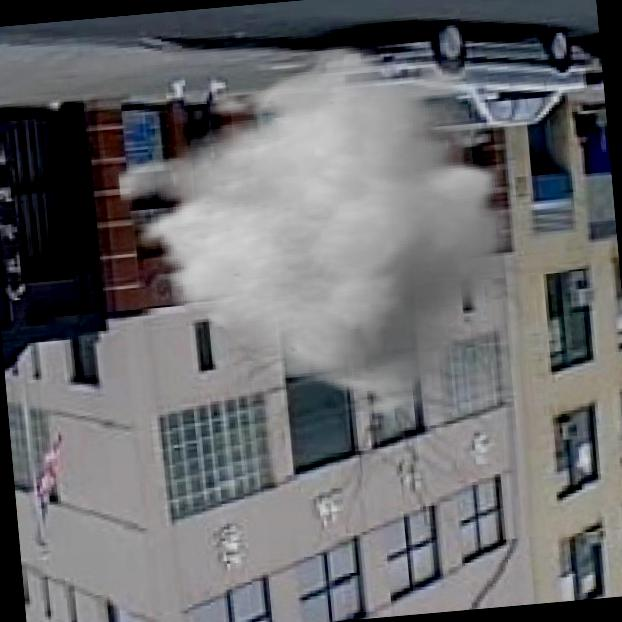smoke: (106, 31, 538, 447)
